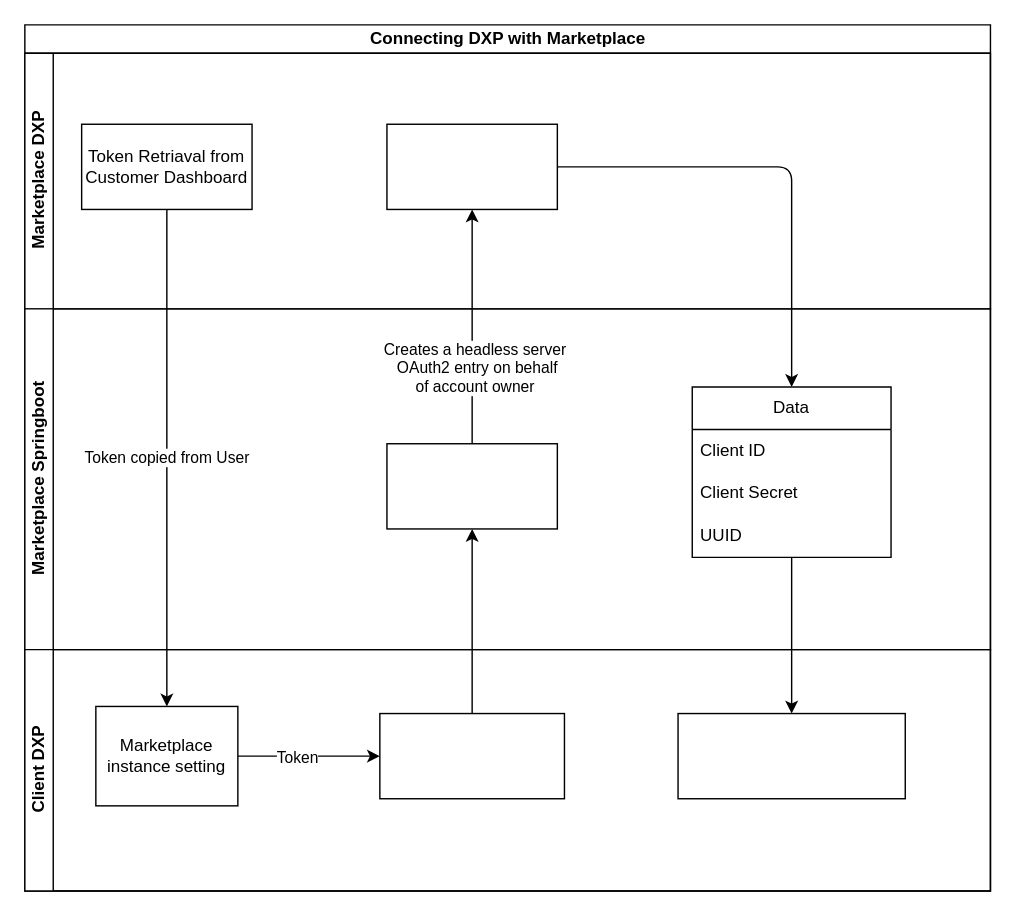
Image size: 1015x916. Some labels were removed from this diagram. Here are the shapes that lost their labels. From the top down, the box of each, then its label:
(386, 123, 557, 209): OAuth2 Registered
(386, 442, 557, 529): Token Validation, check for existing OAuth2 profiles for the existing customer
(378, 712, 564, 799): Marketplace Connect
(677, 712, 905, 799): Store Marketplace OAuth2 Client ID and Secret
